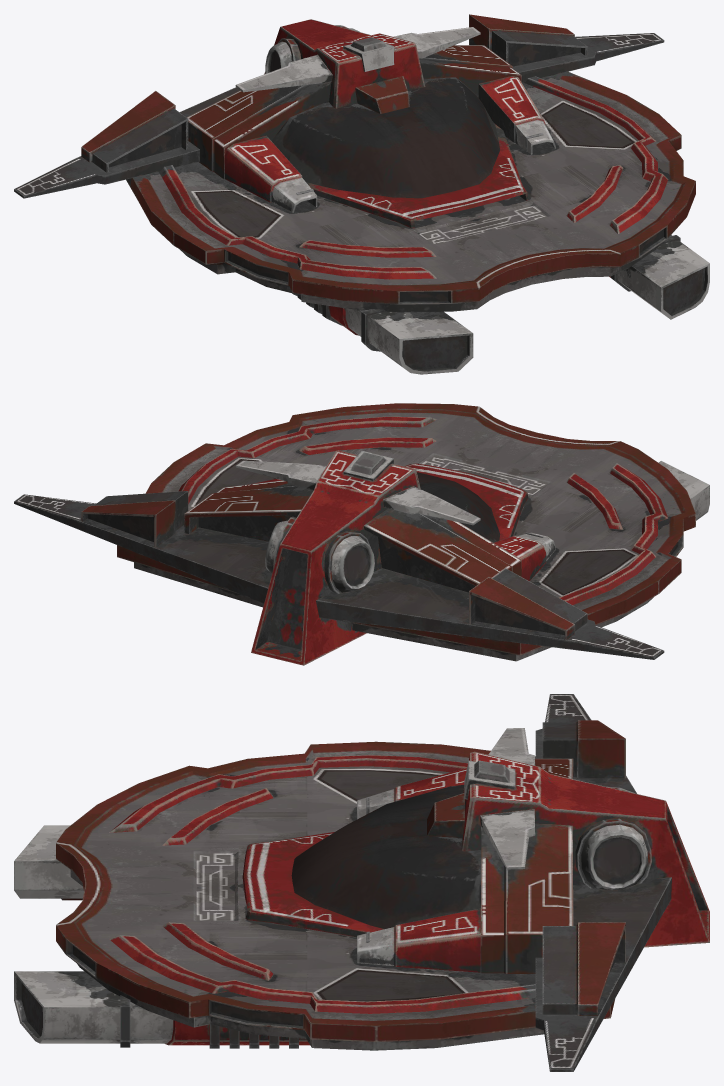
Rendered from pancake_red.glb.
3 views of the same model, one above another, from view 1: azimuth 30°, elevation 25°; view 2: azimuth 150°, elevation 25°; view 3: azimuth 270°, elevation 25° (orthographic). The views are drawn at different scales.
Visible parts, largest first — view 1: pancake; view 2: pancake; view 3: pancake.
Boxes of the visible parts, box(x1,y1,x2,y2) form: pancake: box(14, 14, 709, 374); pancake: box(14, 403, 709, 665); pancake: box(14, 694, 709, 1071).
Bounding box in the file's own units: 10.5 × 2.6 × 8.23.
1 material, 1 textured.
